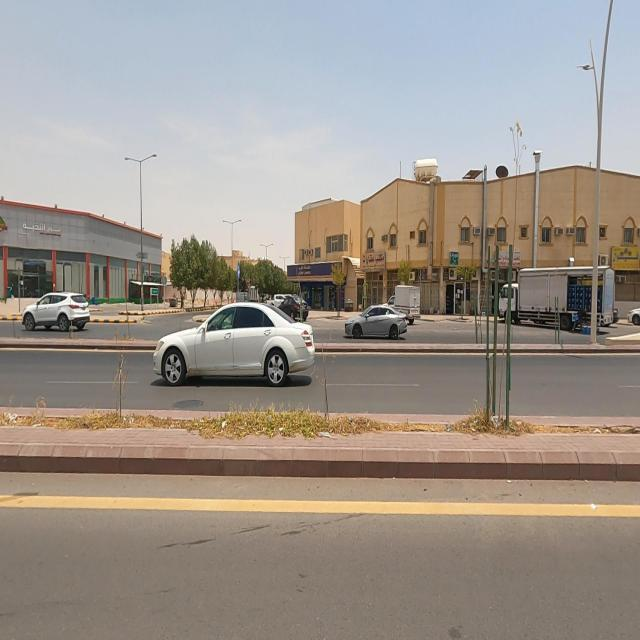debris: (301, 406, 350, 454), (208, 396, 240, 454)
